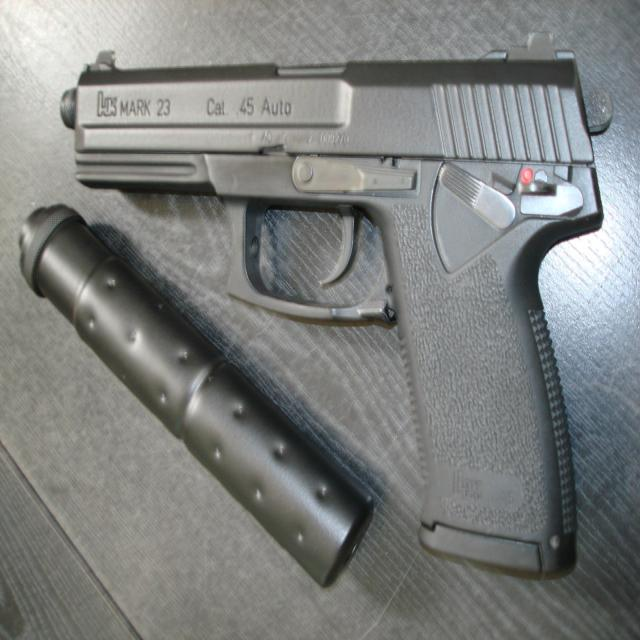pistol: (61, 51, 604, 574)
